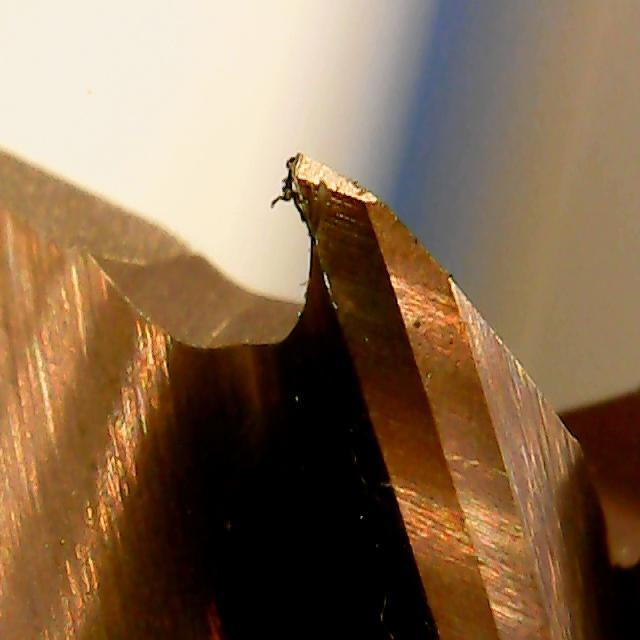Tool-wear-class-1: (256, 132, 439, 362)
